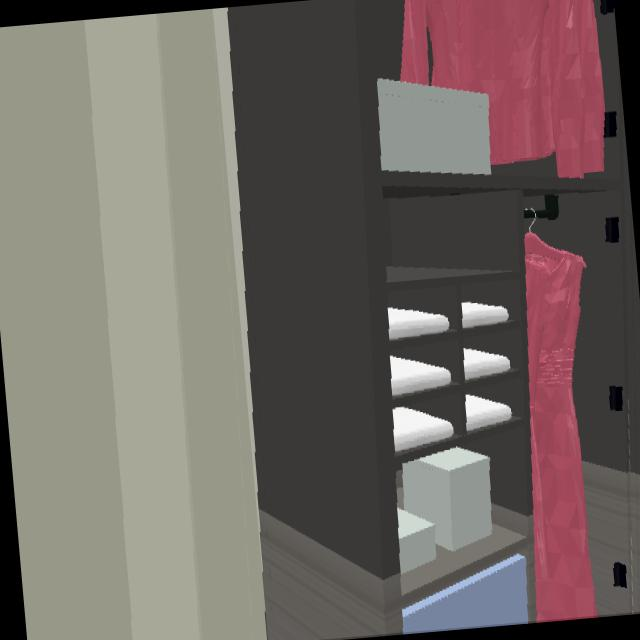wardrobe: (228, 0, 640, 640)
